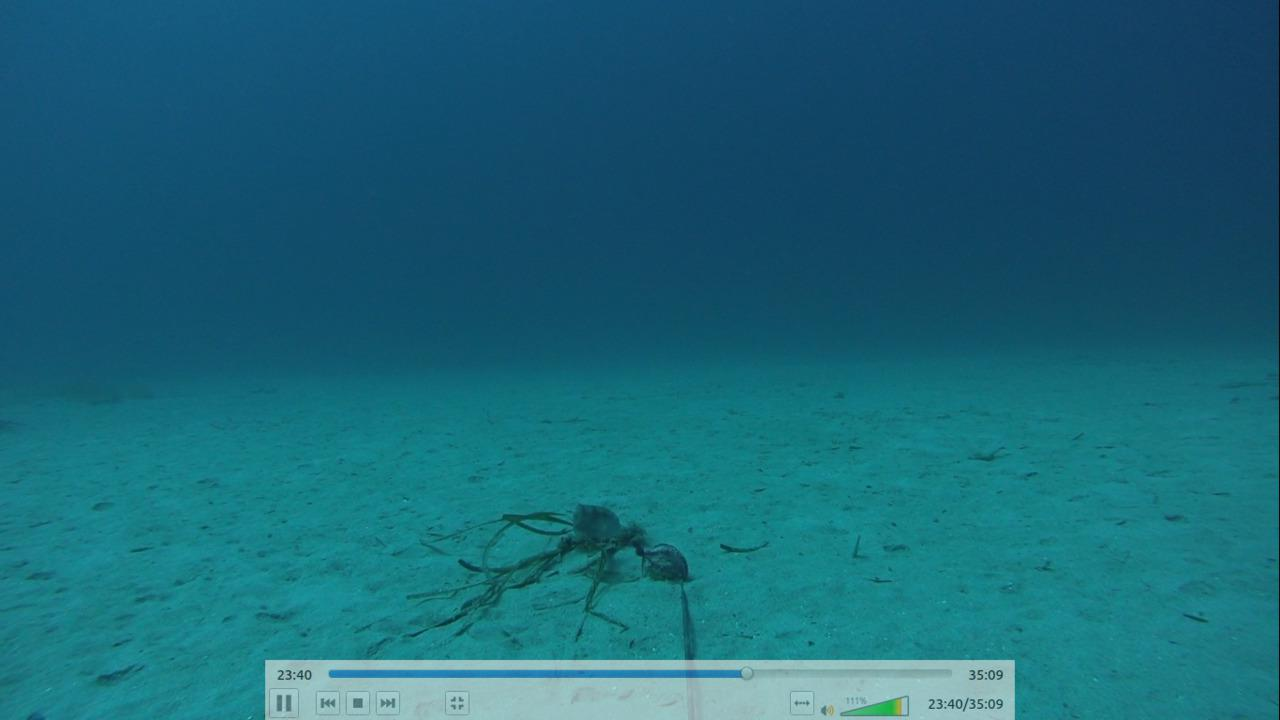raor: (564, 494, 628, 551)
